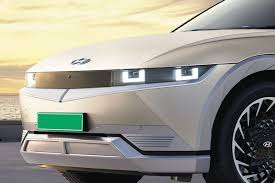Honda Ioniq: (9, 1, 273, 183)
